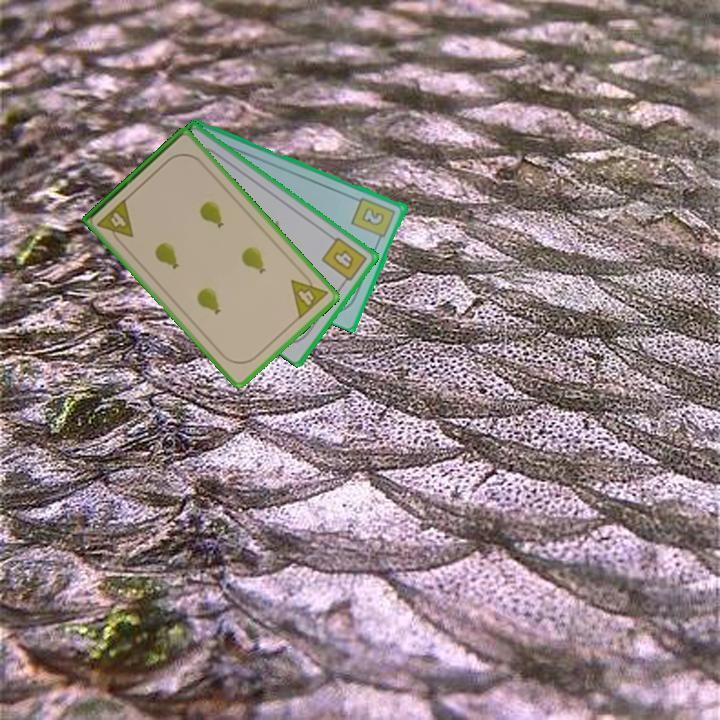2b: (349, 194, 399, 245)
4b: (318, 233, 370, 288)
4p: (287, 267, 331, 322), (93, 195, 137, 248)
